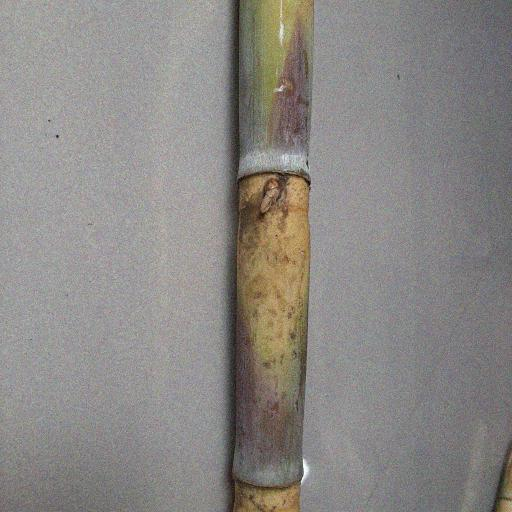Sprouted_Bud: (260, 177, 281, 216)
